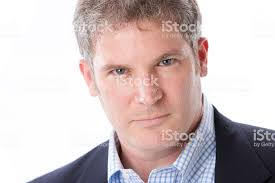white_male: (85, 39, 180, 140)
